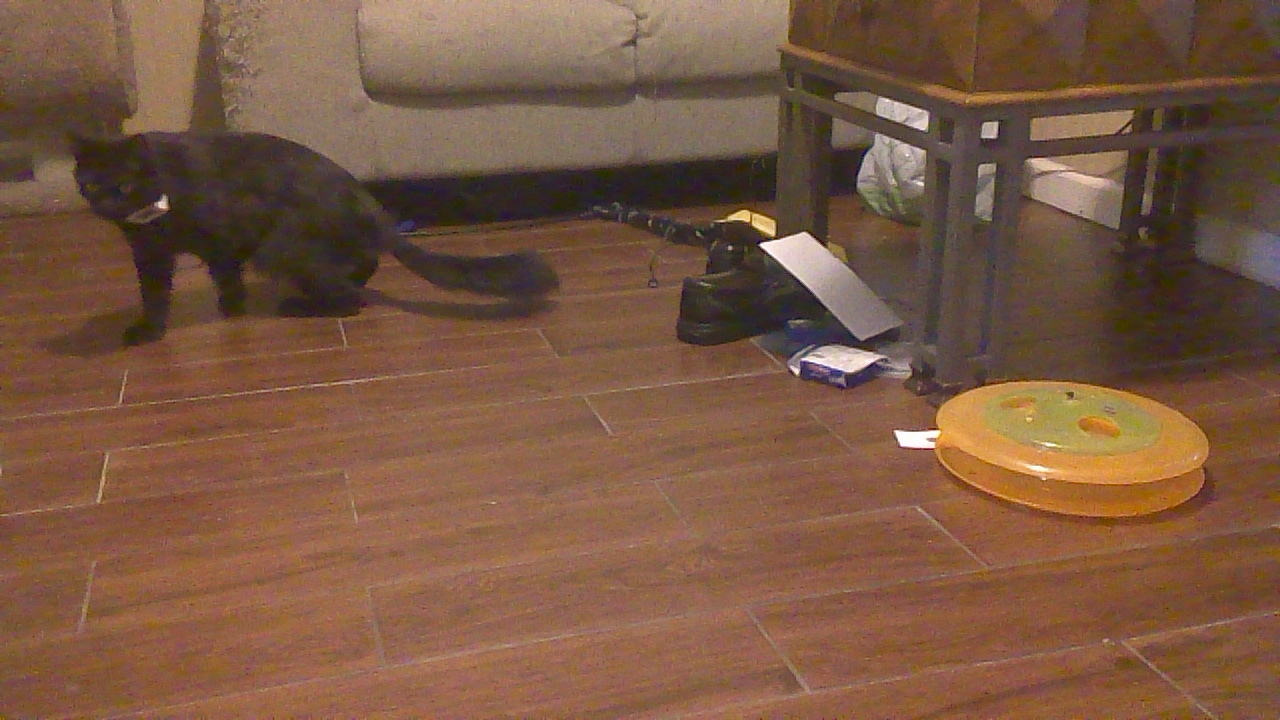cat: (64, 129, 555, 350)
